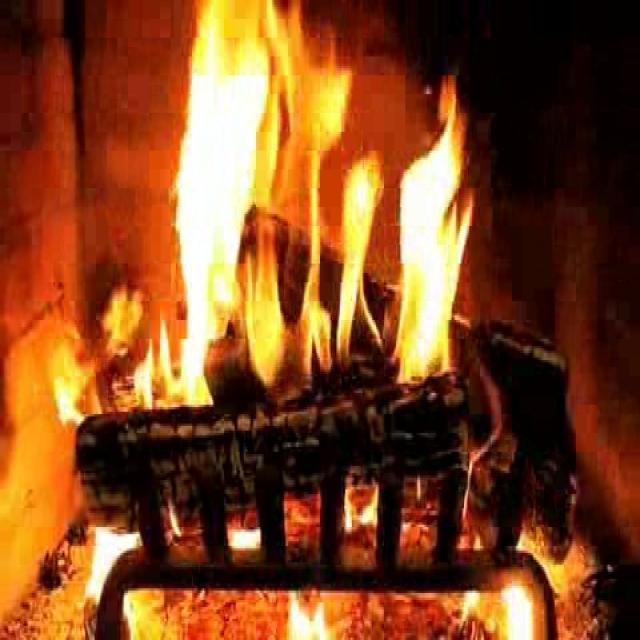Fire: (157, 21, 479, 411)
